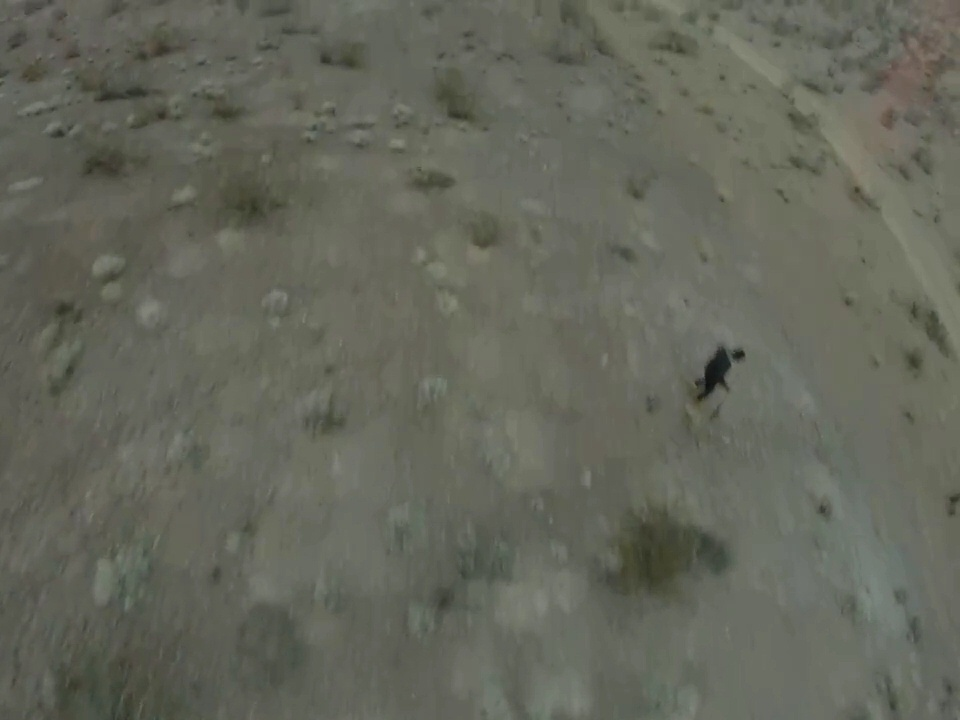insan: (691, 340, 753, 404)
